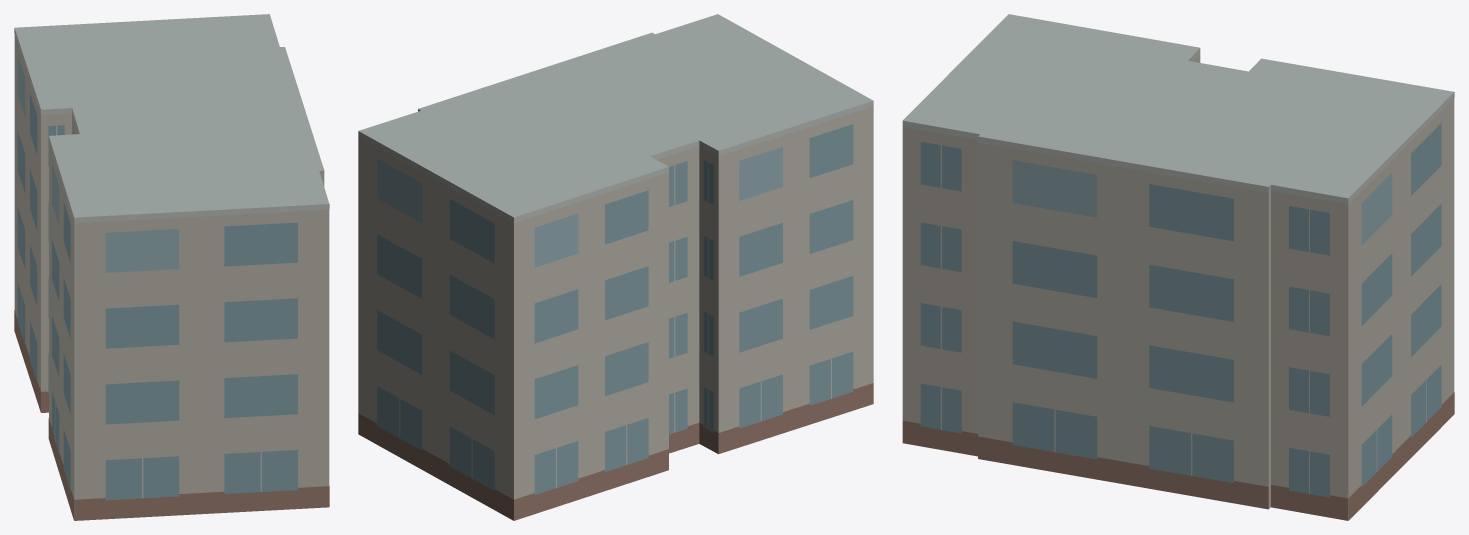
File: survey-upis-32958578.glb
3 views of the same model, side by side, from view 1: azimuth 30°, elevation 25°; view 2: azimuth 150°, elevation 25°; view 3: azimuth 270°, elevation 25° (orthographic). The views are drawn at different scales.
Parts seen in each view (by area): view 1: survey-upis-32958578.tmp; view 2: survey-upis-32958578.tmp; view 3: survey-upis-32958578.tmp.
Part boxes in pixels (x1,y1,x2,y2): survey-upis-32958578.tmp: [14, 14, 329, 520]; survey-upis-32958578.tmp: [358, 14, 873, 520]; survey-upis-32958578.tmp: [902, 14, 1454, 520].
Size of the model in its own units: 15.95 by 13 by 20.17.
